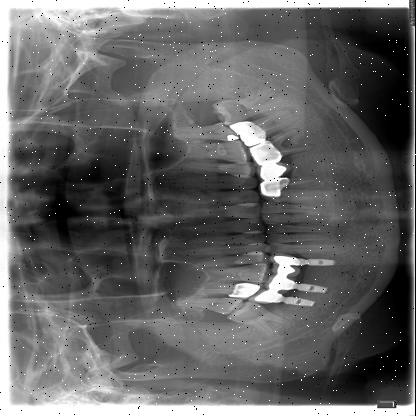Bicon: (296, 254, 339, 269), (297, 280, 332, 294), (280, 296, 320, 308)
